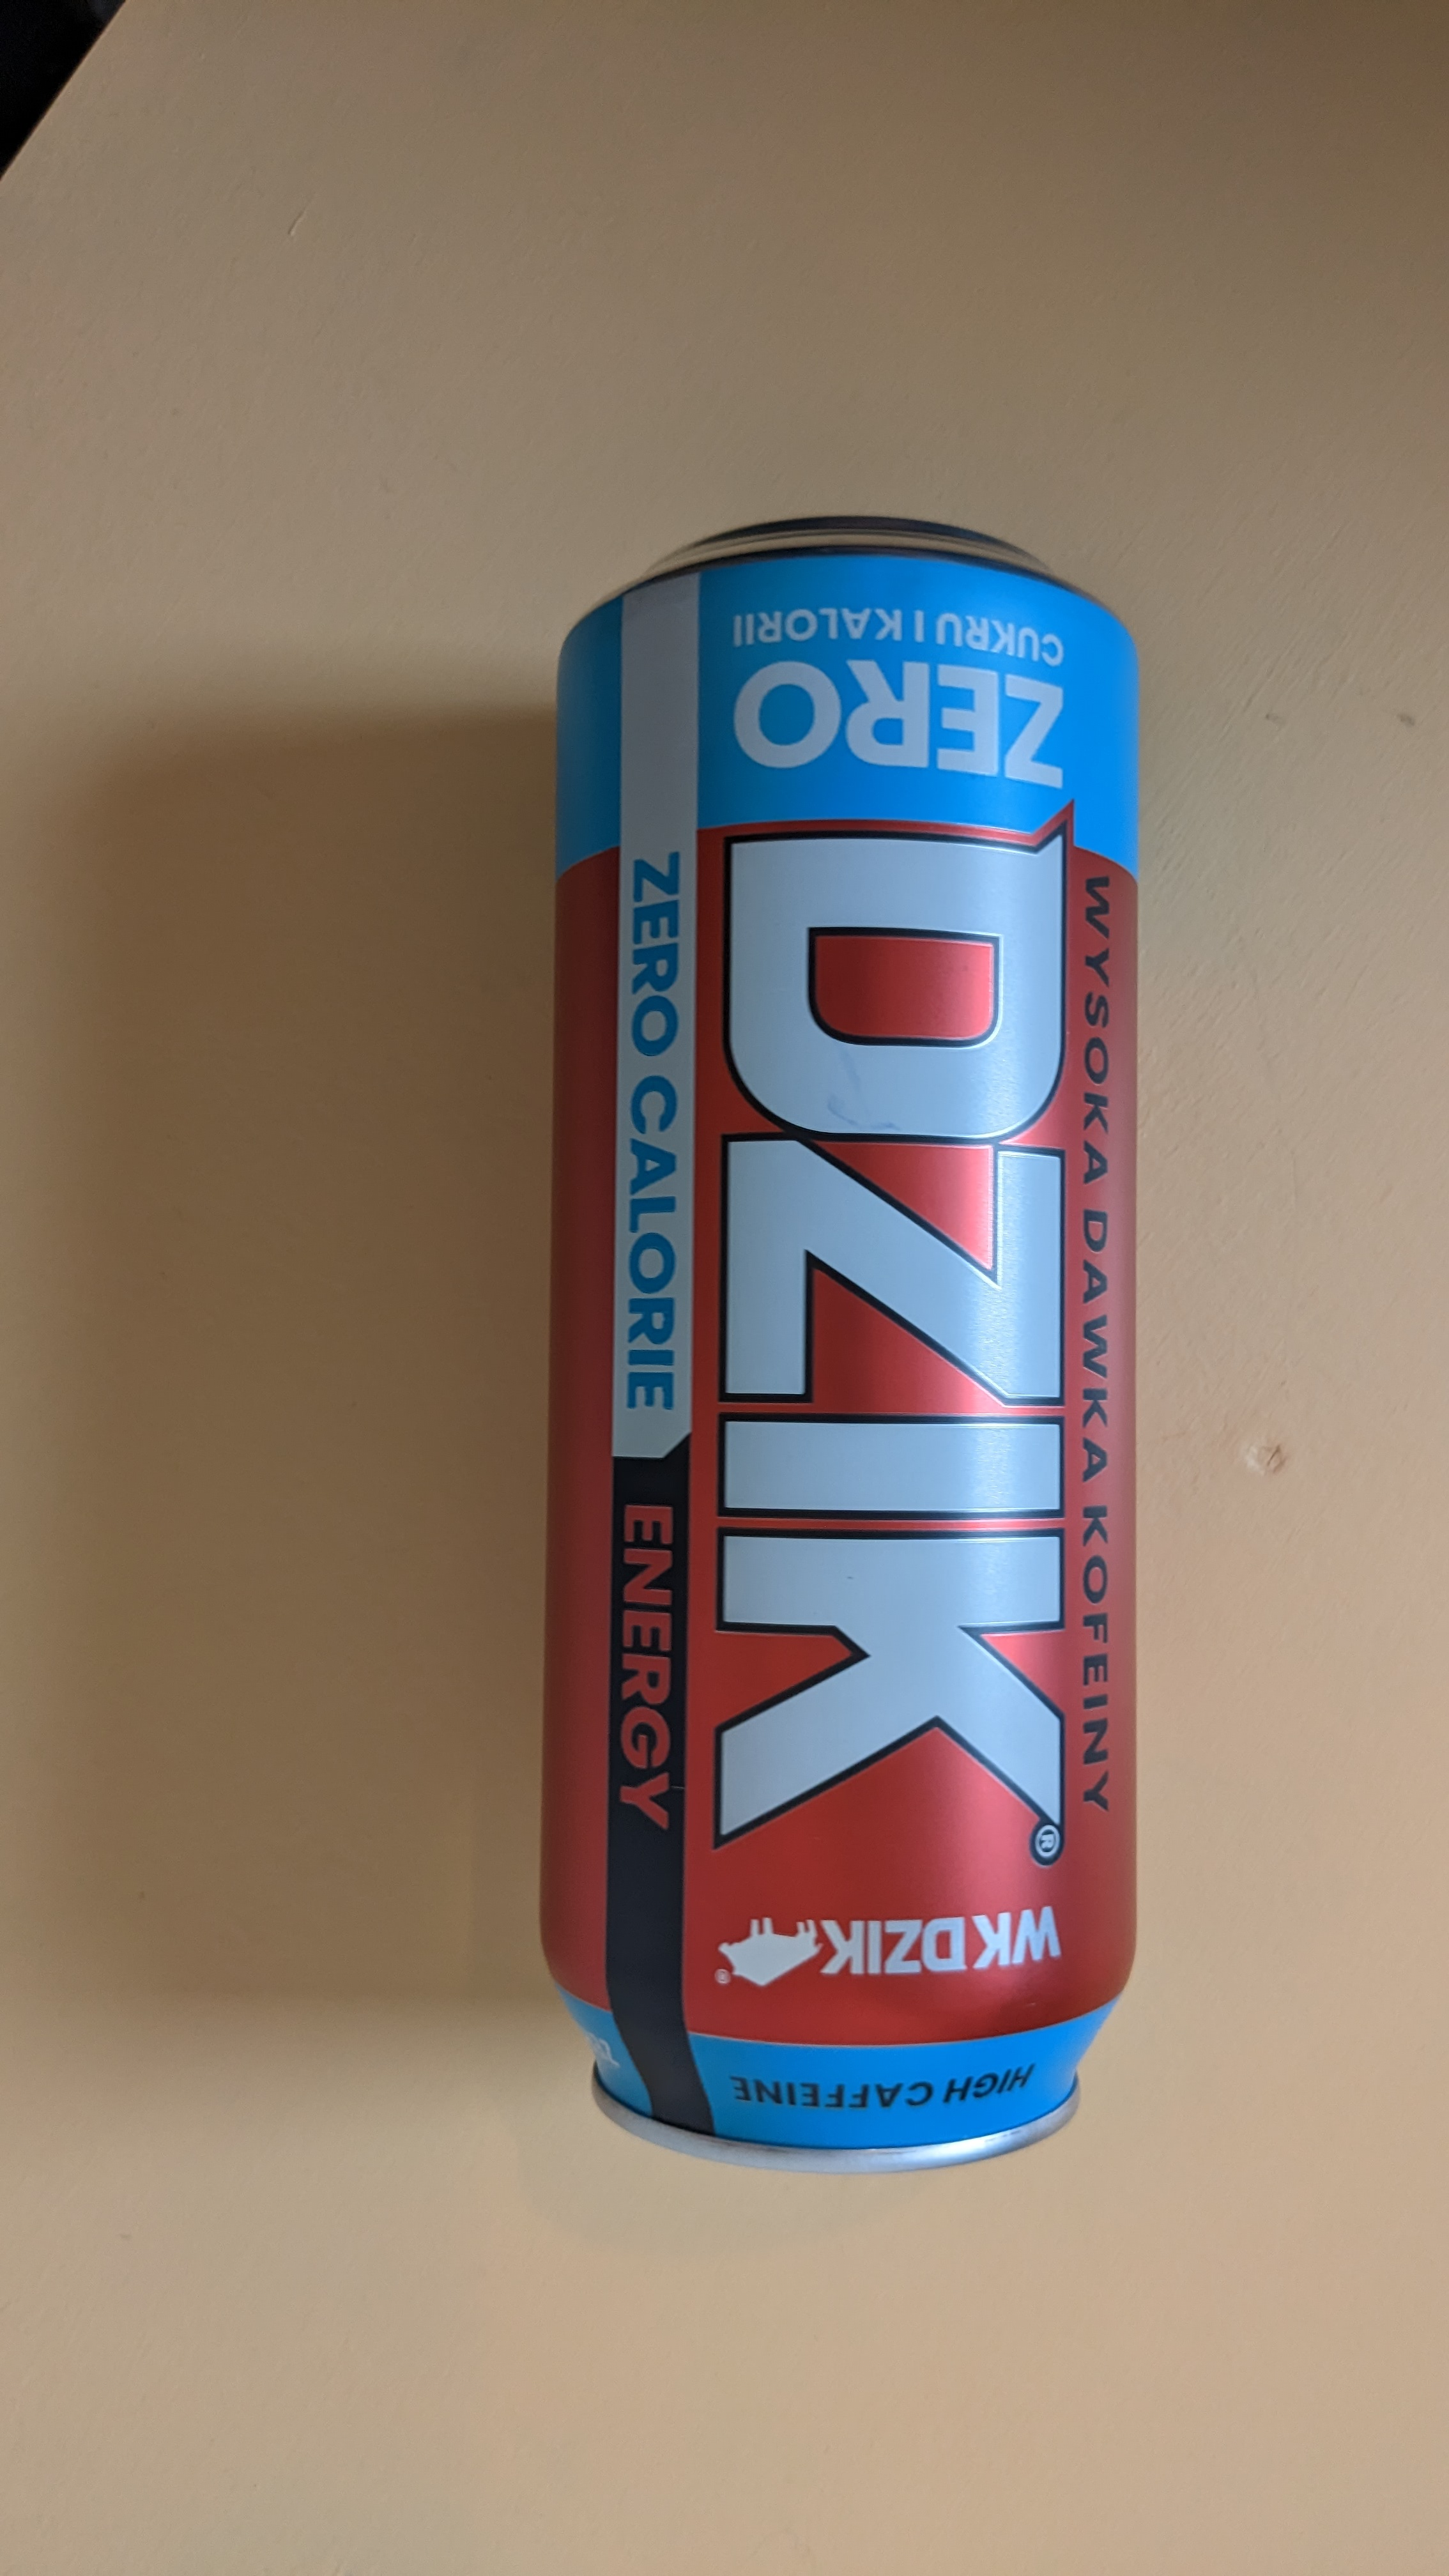dzik: (525, 481, 1161, 2157)
